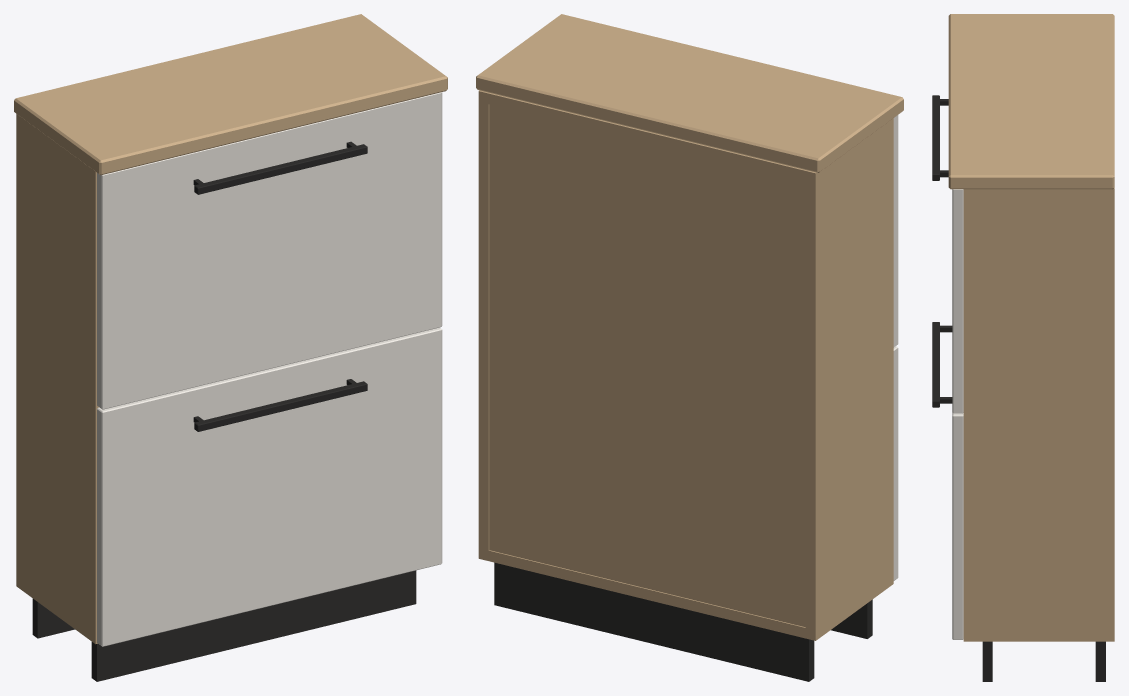
The model's file is 26_szafka_buty_60.glb.
The picture shows the model from 3 angles, left to right: view 1: azimuth 30°, elevation 25°; view 2: azimuth 150°, elevation 25°; view 3: azimuth 270°, elevation 25°; orthographic projection. The views are drawn at different scales.
Parts seen in each view (by area): view 1: Front_klapa_2, Front_klapa_1, Korpus, Wierzch, Cokol, Uchwyty; view 2: Korpus, Wierzch, Cokol, Front_klapa_2, Front_klapa_1; view 3: Korpus, Wierzch, Front_klapa_2, Front_klapa_1, Uchwyty, Cokol.
Boxes of the visible parts, x1,y1,x2,y2 form: Front_klapa_2: (97, 327, 442, 646); Front_klapa_1: (97, 92, 442, 409); Korpus: (16, 114, 98, 644); Wierzch: (14, 14, 447, 175); Cokol: (32, 570, 416, 681); Uchwyty: (193, 141, 367, 431); Korpus: (478, 90, 893, 640); Wierzch: (476, 14, 903, 172); Cokol: (494, 562, 872, 681); Front_klapa_2: (893, 346, 898, 580); Front_klapa_1: (893, 115, 898, 347); Korpus: (963, 188, 1114, 641); Wierzch: (948, 14, 1114, 189); Front_klapa_2: (952, 413, 963, 639); Front_klapa_1: (952, 189, 963, 413); Uchwyty: (932, 95, 952, 407); Cokol: (982, 641, 1105, 681).
Size of the model in its own units: 0.612 by 0.9 by 0.29.
